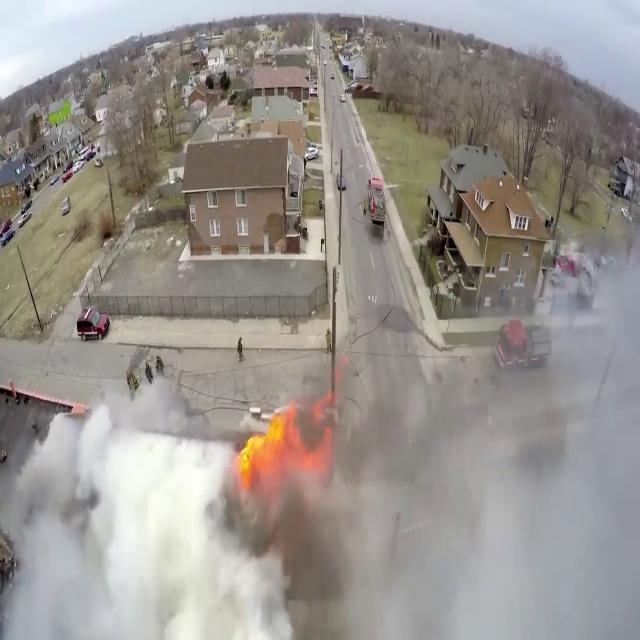Fire: (237, 393, 302, 489)
Smoke: (285, 205, 640, 640), (0, 378, 287, 640)
